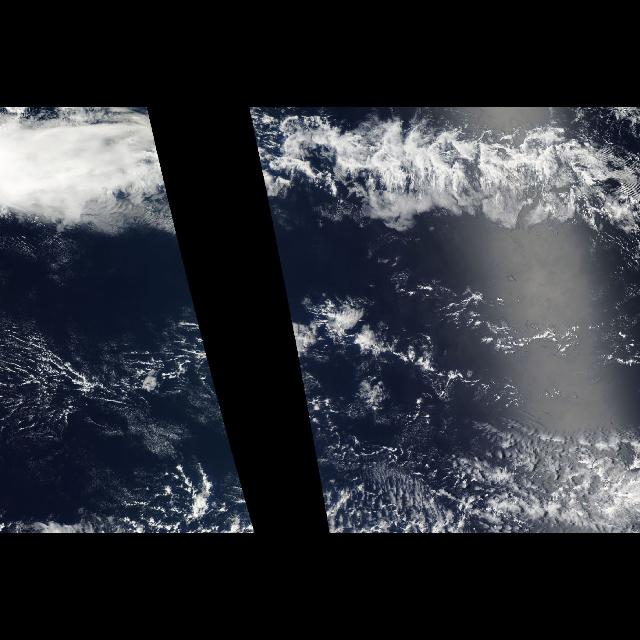Fish: (248, 111, 640, 281), (99, 111, 189, 281)
